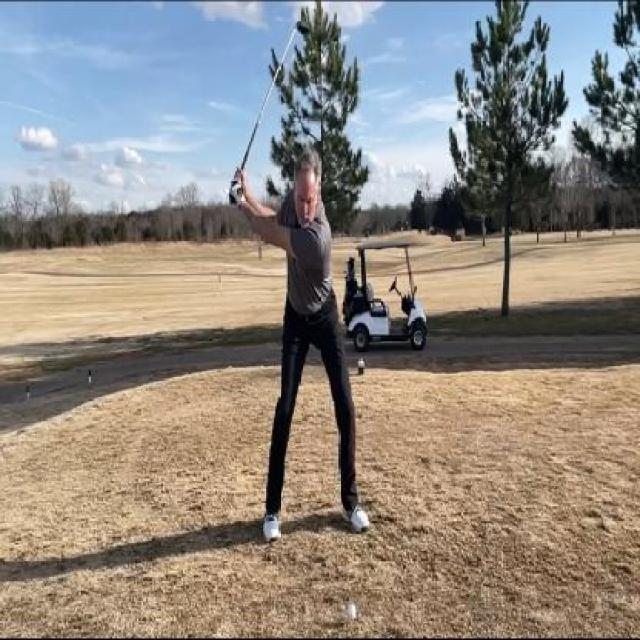club head: (292, 17, 312, 40)
